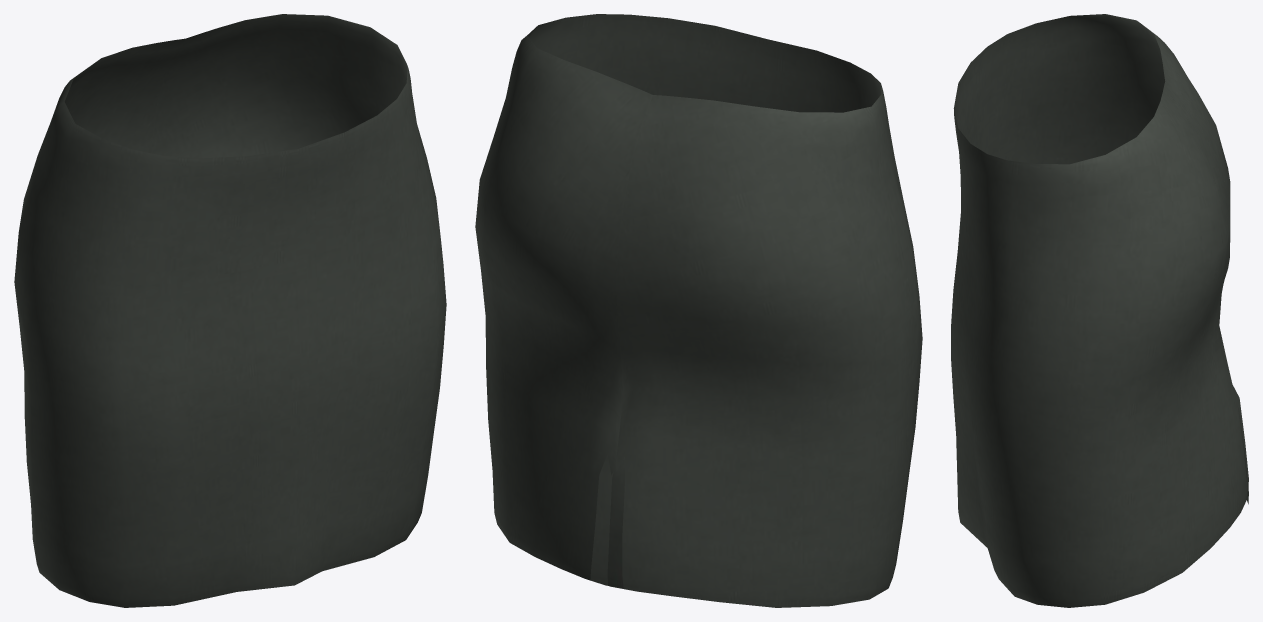
File: bottom_pencil_skirt.gltf
3 renders of one model, left to right at view 1: azimuth 30°, elevation 25°; view 2: azimuth 150°, elevation 25°; view 3: azimuth 270°, elevation 25°, orthographic. The views are drawn at different scales.
Parts seen in each view (by area): view 1: bottom_pencil_skirt; view 2: bottom_pencil_skirt; view 3: bottom_pencil_skirt.
Part boxes in pixels (box(x1,y1,x2,y2)): bottom_pencil_skirt: box(14, 14, 446, 607); bottom_pencil_skirt: box(475, 14, 922, 607); bottom_pencil_skirt: box(951, 14, 1248, 607).
Bounding box in the file's own units: 0.3719 × 0.4357 × 0.257.
Materials: 1 (1 with a texture image).
